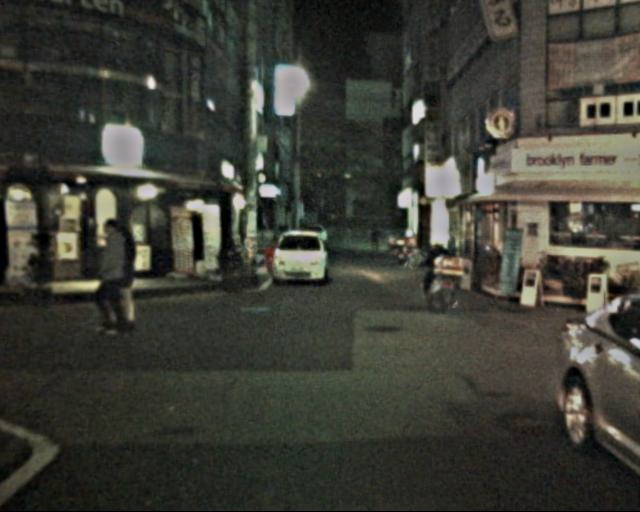person: (91, 219, 143, 335), (423, 236, 458, 316)
